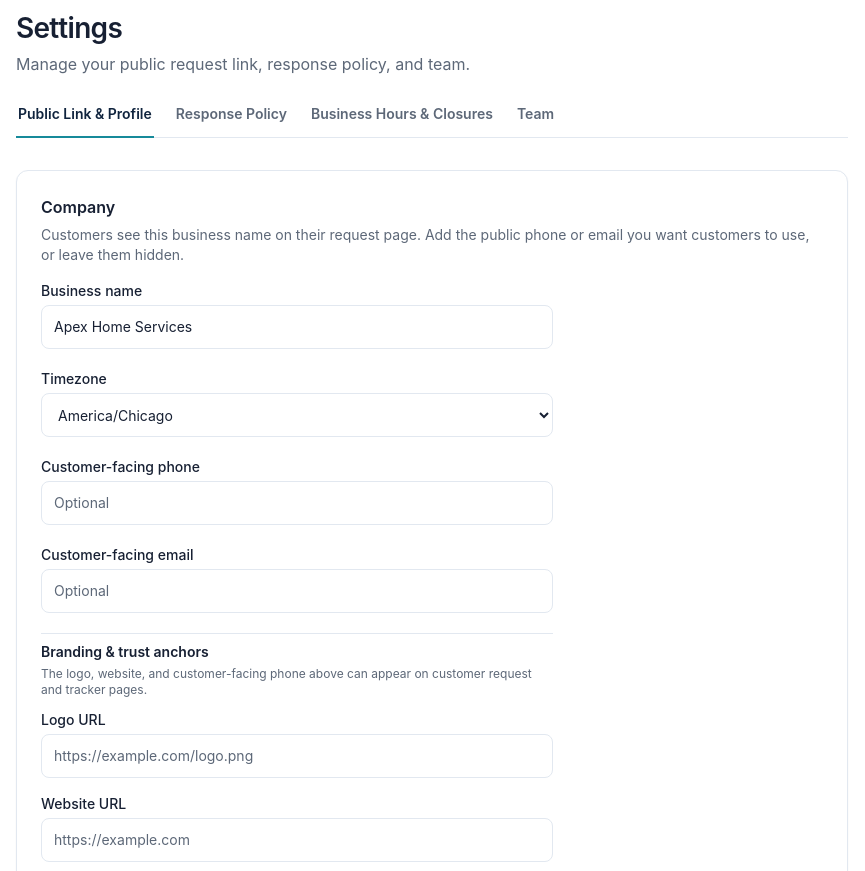
Scenario: Settings — V2 shell › shows passive readiness labels: link Live, policy Active, team Solo workspace
This screenshot has width=865, height=871.
Click the tab "Response Policy": (231, 115) [174, 92, 289, 138]
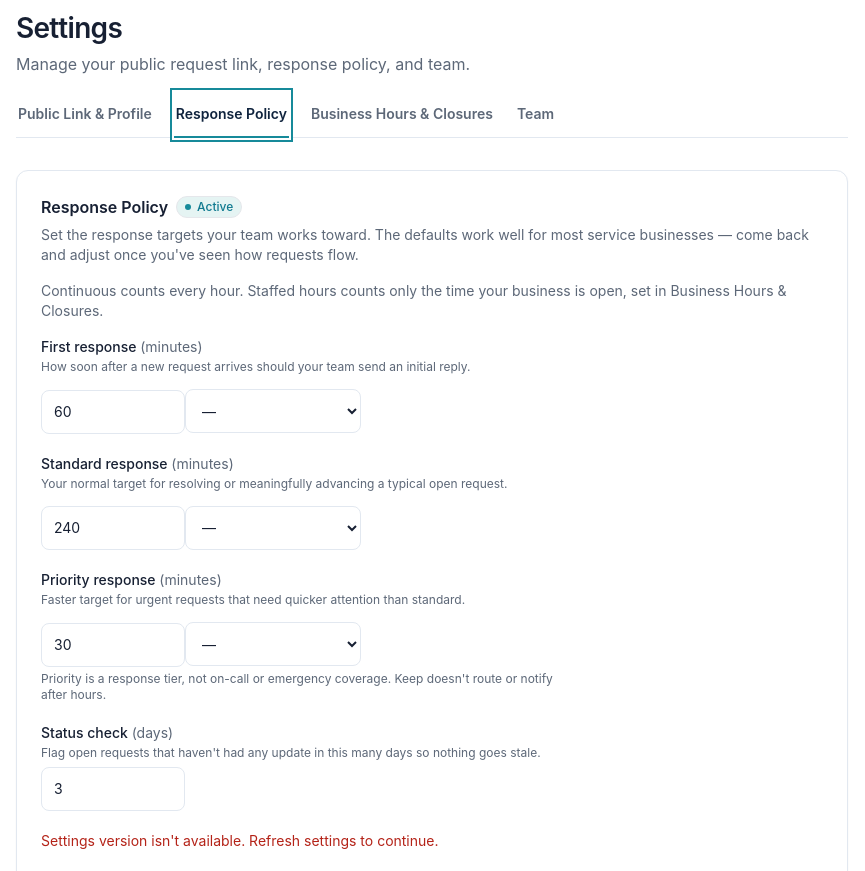
expect the text "Active" is shown: met, box [176, 196, 242, 218]
Click the tab "Team": (536, 115) [515, 92, 556, 138]
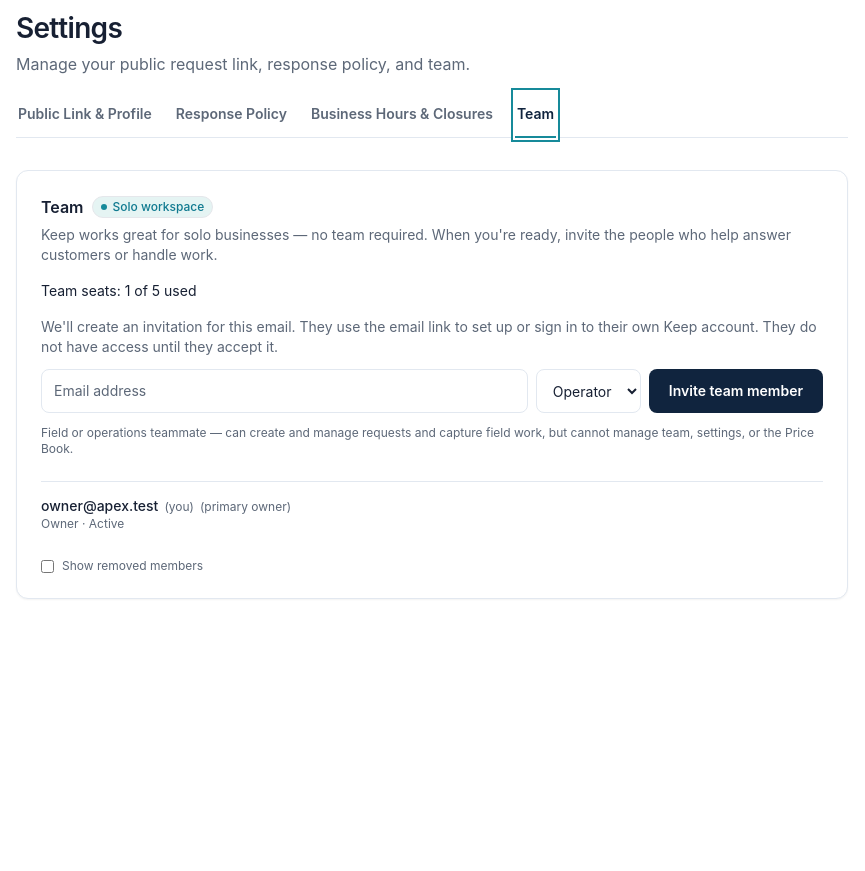
expect the text "Solo workspace" is shown: met, box [92, 196, 213, 218]
